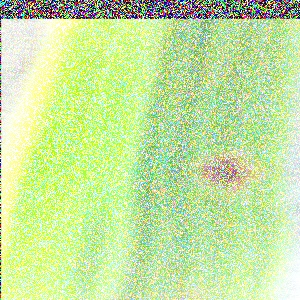Bacterial_Leaf_Blight: (186, 142, 267, 203)
